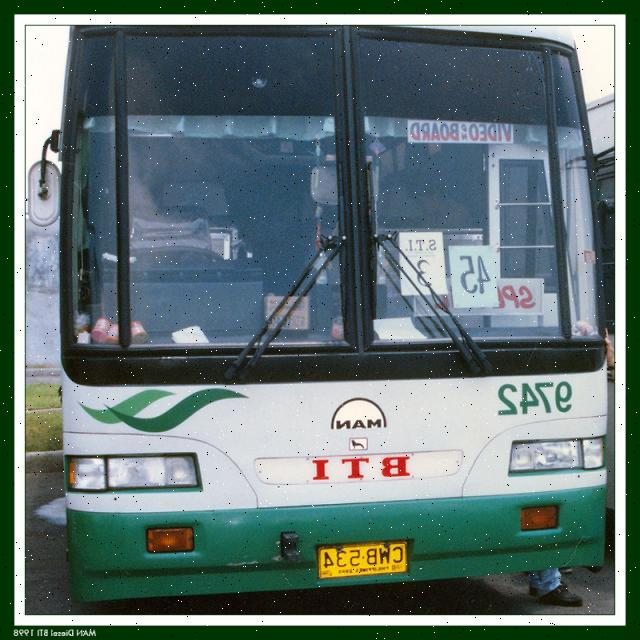Bus: (49, 21, 608, 592), (524, 566, 583, 606)
